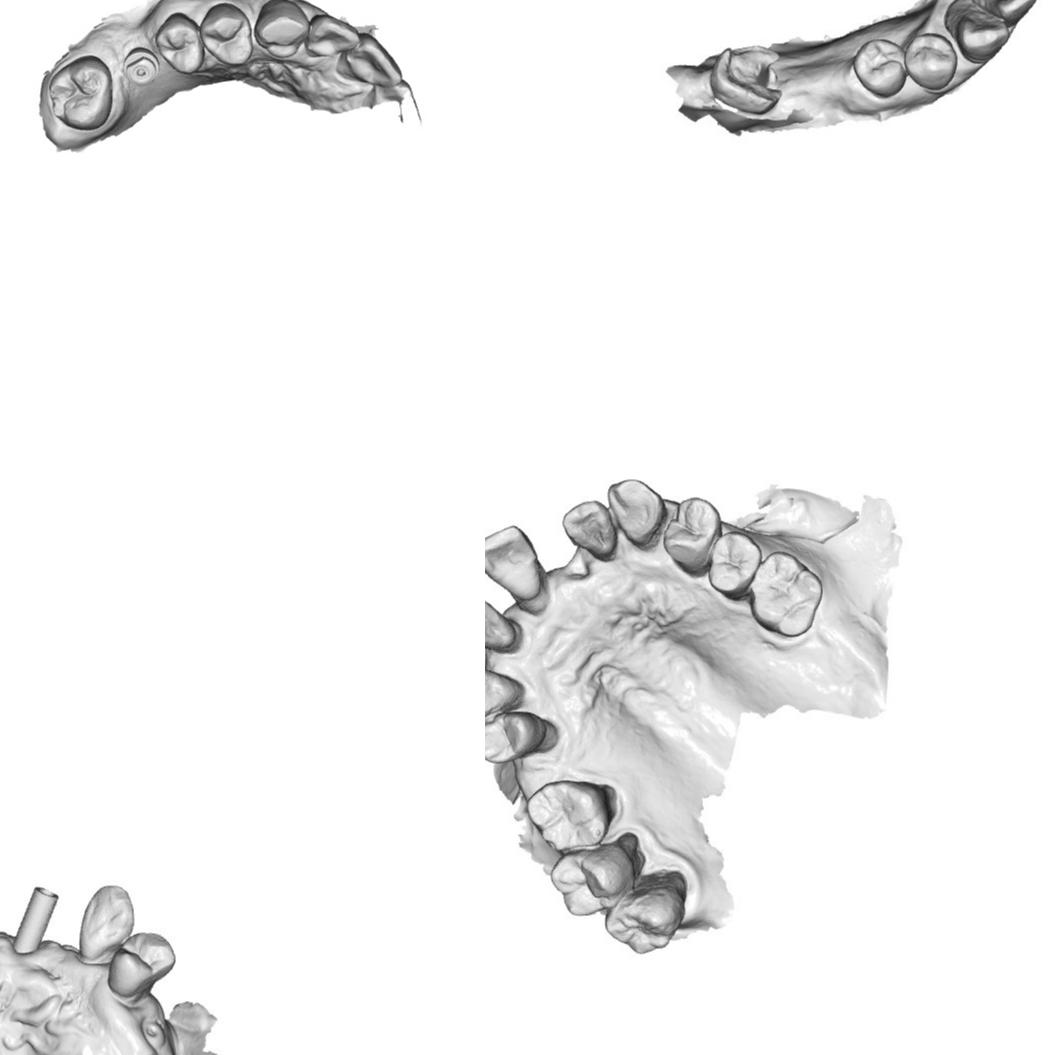canine: (78, 883, 135, 959), (606, 477, 661, 547), (251, 0, 311, 62), (951, 5, 1010, 62), (485, 664, 516, 717)
implant: (12, 885, 64, 960), (120, 44, 161, 89), (136, 1021, 166, 1046)
incisor: (485, 522, 545, 600), (334, 31, 405, 89), (564, 498, 618, 556), (303, 12, 362, 64), (485, 596, 515, 655), (969, 0, 1041, 18)
molar: (746, 551, 819, 638), (530, 779, 614, 853), (603, 877, 679, 954), (46, 53, 116, 133), (552, 848, 627, 920)
premolar: (106, 929, 177, 998), (197, 0, 256, 68), (704, 528, 761, 597), (667, 499, 720, 573), (153, 10, 205, 78), (853, 38, 910, 97), (904, 33, 958, 89), (485, 712, 541, 763)
